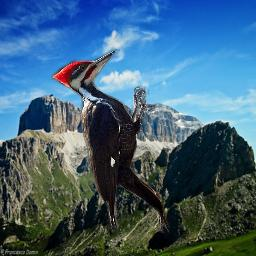Woodpecker: (51, 49, 170, 233)
